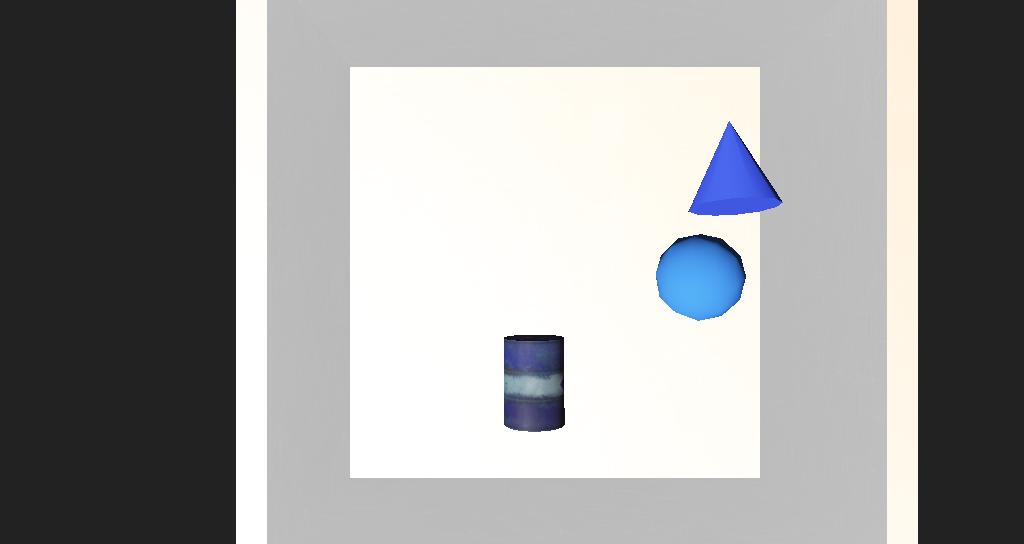cone: (468, 301, 515, 348)
cylinder: (593, 181, 674, 239)
sphere: (573, 251, 640, 293)
